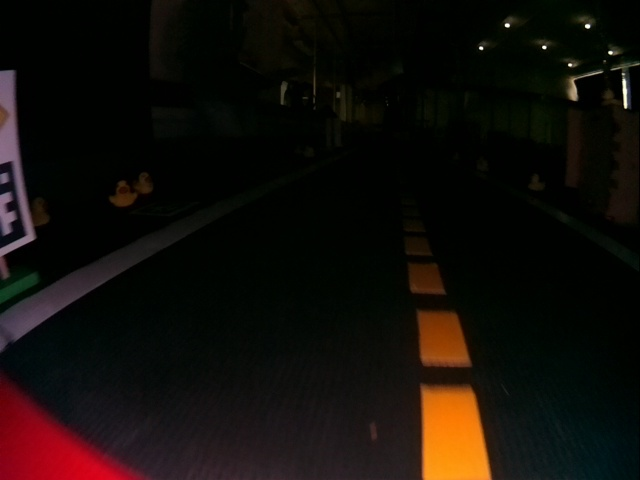Duckie: (110, 180, 138, 207), (136, 173, 153, 193), (529, 174, 544, 187)
QR code: (0, 161, 31, 254)
